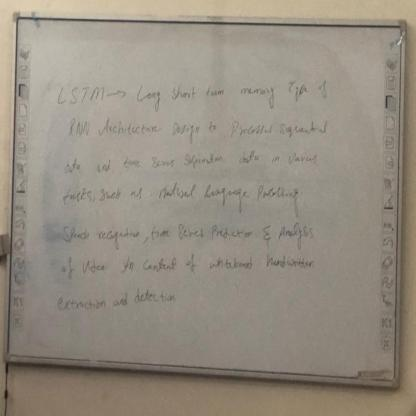Handwritten text: (46, 71, 332, 115), (60, 146, 326, 183), (58, 111, 332, 146), (55, 245, 322, 278), (49, 214, 321, 246), (51, 178, 303, 210), (54, 283, 181, 313)
Whiteboard: (3, 7, 408, 396)
